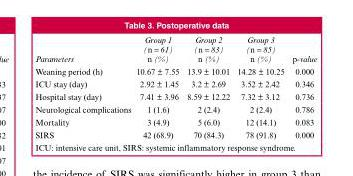table: (34, 34, 316, 139)
table column: (34, 34, 133, 139), (232, 34, 287, 139), (182, 34, 232, 139), (133, 34, 182, 139), (287, 34, 316, 139)
table column header: (34, 34, 316, 64)
table row: (34, 34, 316, 64), (34, 64, 316, 77), (34, 89, 316, 102), (34, 102, 316, 115), (34, 77, 316, 89), (34, 115, 316, 127), (34, 127, 316, 139)
